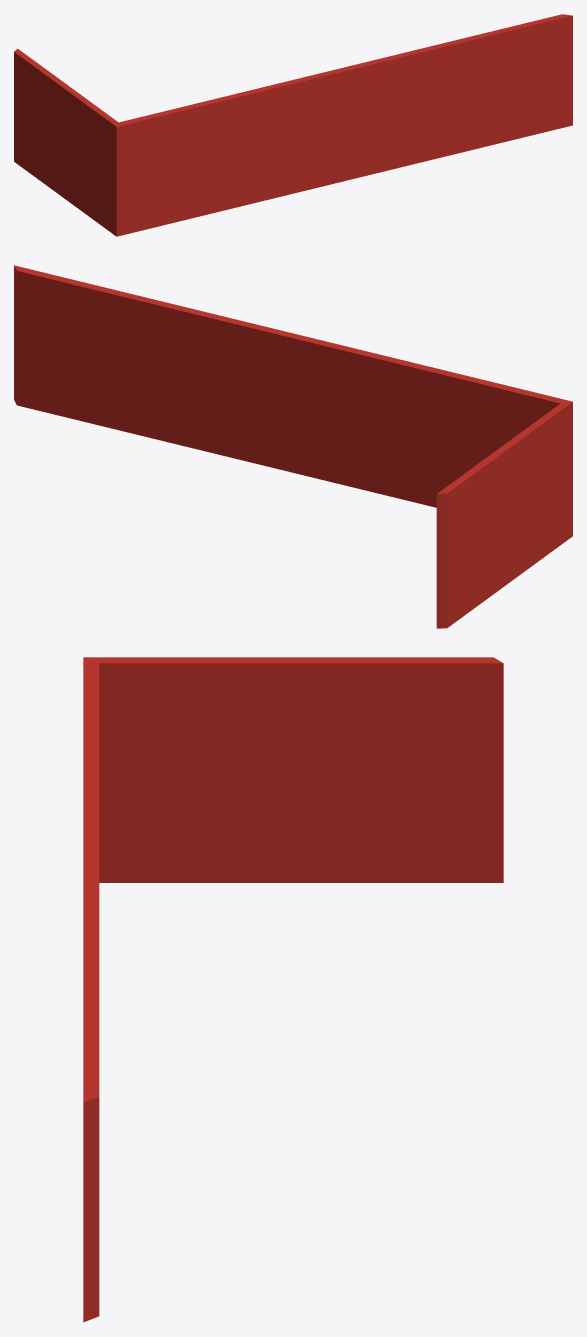
File: Room Project Walls.gltf
The picture shows the model from 3 angles, top to bottom: view 1: azimuth 30°, elevation 25°; view 2: azimuth 150°, elevation 25°; view 3: azimuth 270°, elevation 25°; orthographic projection. The views are drawn at different scales.
Visible parts, largest first — view 1: Project Room Walls; view 2: Project Room Walls; view 3: Project Room Walls.
Boxes of the visible parts, x1,y1,x2,y2 form: Project Room Walls: [14, 14, 572, 236]; Project Room Walls: [14, 265, 572, 628]; Project Room Walls: [83, 657, 503, 1322].
Size of the model in its own units: 1.34 by 0.3089 by 0.5358.
Materials: 1 (1 with a texture image).
